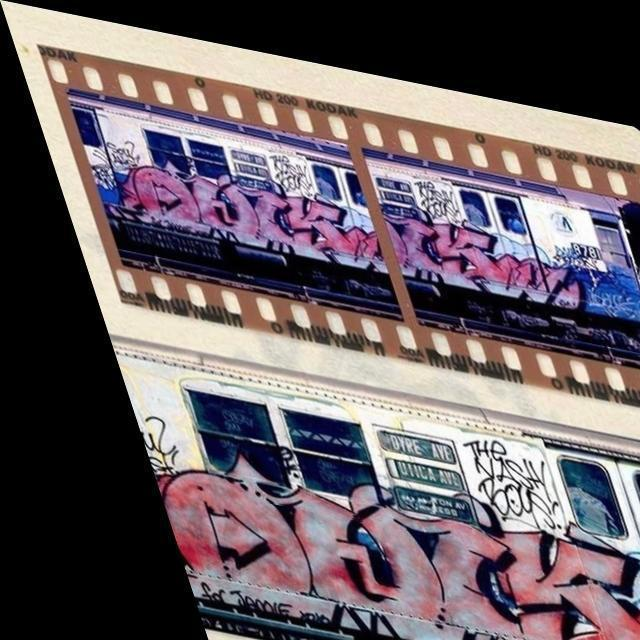nonspitting: (155, 449, 640, 639), (117, 163, 587, 312), (461, 435, 564, 532), (551, 240, 639, 320), (90, 140, 140, 190), (138, 414, 180, 473), (413, 178, 462, 223), (270, 156, 316, 197)
